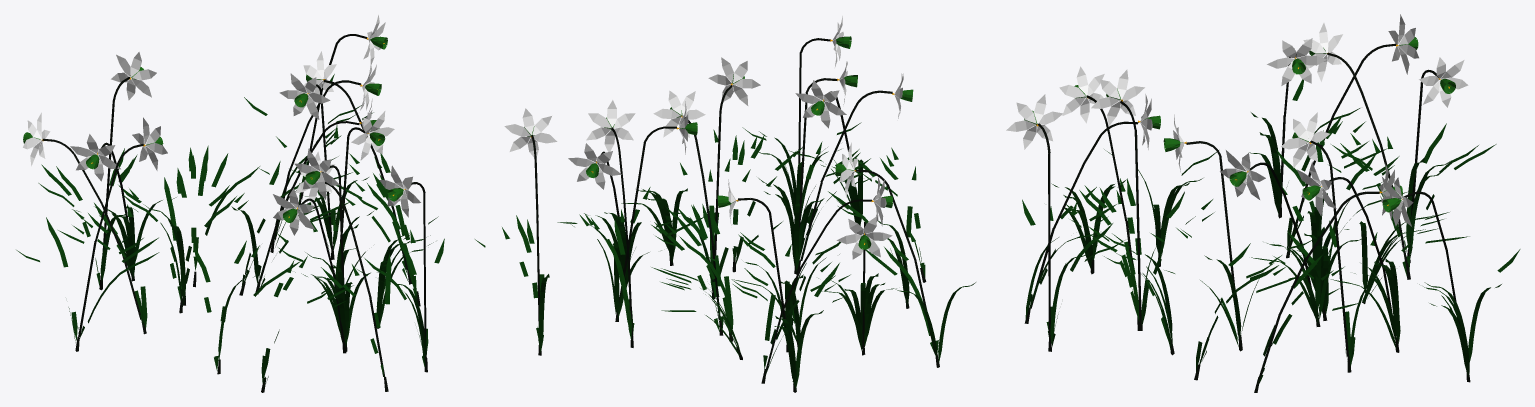
3 views of the same model, side by side, from view 1: azimuth 30°, elevation 25°; view 2: azimuth 150°, elevation 25°; view 3: azimuth 270°, elevation 25° (orthographic). The views are drawn at different scales.
Visible parts, largest first — view 1: leaves2, stems, petal2, petal3, leaves3, petal1, leaves1, bulb3, base, bulb2; view 2: leaves2, stems, petal2, leaves3, petal3, petal1, leaves1, bulb3, base, bulb2; view 3: leaves2, stems, petal2, petal3, leaves3, petal1, leaves1, bulb3, base, bulb2.
Part boxes in pixels (bbox=[...]): leaves2: bbox=[26, 106, 443, 370]; stems: bbox=[42, 34, 426, 376]; petal2: bbox=[26, 22, 413, 228]; petal3: bbox=[23, 15, 420, 235]; leaves3: bbox=[16, 74, 444, 307]; petal1: bbox=[33, 31, 408, 219]; leaves1: bbox=[73, 183, 428, 387]; bulb3: bbox=[23, 37, 400, 222]; base: bbox=[75, 199, 427, 392]; bulb2: bbox=[29, 36, 402, 219]; leaves2: bbox=[518, 128, 969, 378]; stems: bbox=[531, 38, 935, 377]; petal2: bbox=[512, 22, 903, 254]; leaves3: bbox=[475, 122, 975, 327]; petal3: bbox=[504, 16, 903, 259]; petal1: bbox=[521, 32, 900, 243]; leaves1: bbox=[536, 210, 941, 390]; bulb3: bbox=[524, 36, 913, 249]; base: bbox=[538, 225, 939, 392]; bulb2: bbox=[526, 36, 906, 245]; leaves2: bbox=[1025, 88, 1511, 365]; stems: bbox=[1029, 43, 1460, 377]; petal2: bbox=[1015, 24, 1461, 220]; petal3: bbox=[1006, 14, 1468, 226]; leaves3: bbox=[1022, 79, 1520, 306]; petal1: bbox=[1025, 35, 1452, 211]; leaves1: bbox=[1025, 195, 1471, 383]; bulb3: bbox=[1024, 37, 1455, 212]; base: bbox=[1024, 204, 1470, 392]; bulb2: bbox=[1027, 41, 1451, 208].
Size of the model in its own units: 102 by 50.71 by 98.94.
